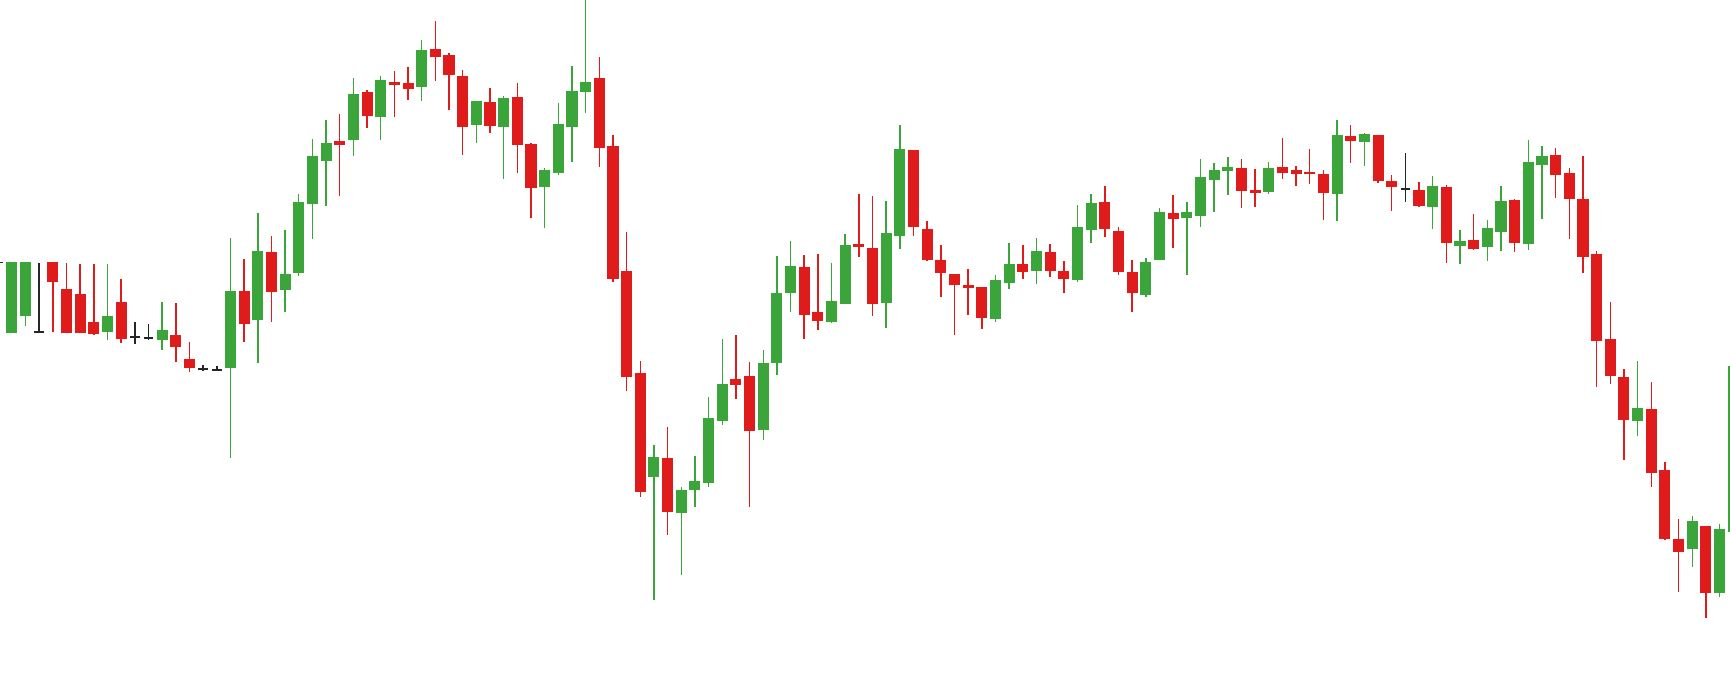buy: (1058, 236, 1153, 316)
sell: (429, 6, 590, 152), (1424, 141, 1563, 228)
